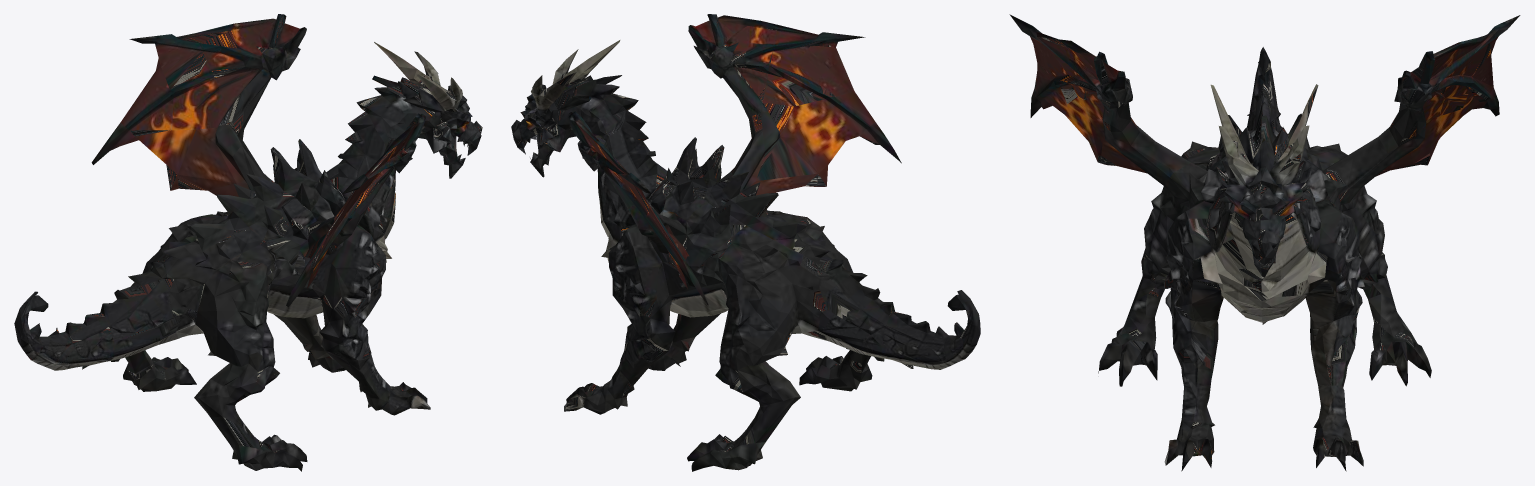
File: cinder_drake.glb
3 views of the same model, side by side, from view 1: azimuth 30°, elevation 25°; view 2: azimuth 150°, elevation 25°; view 3: azimuth 270°, elevation 25° (orthographic). The views are drawn at different scales.
Parts seen in each view (by area): view 1: tripo_node_1e0daa3b-609e-4f0f-9c77-890b639ddf30; view 2: tripo_node_1e0daa3b-609e-4f0f-9c77-890b639ddf30; view 3: tripo_node_1e0daa3b-609e-4f0f-9c77-890b639ddf30.
Boxes of the visible parts, <box> form: tripo_node_1e0daa3b-609e-4f0f-9c77-890b639ddf30: <box>14,14,482,471</box>; tripo_node_1e0daa3b-609e-4f0f-9c77-890b639ddf30: <box>511,14,980,471</box>; tripo_node_1e0daa3b-609e-4f0f-9c77-890b639ddf30: <box>1009,14,1520,471</box>.
Size of the model in its own units: 0.9783 by 0.6621 by 0.7752.
1 material, 1 textured.
